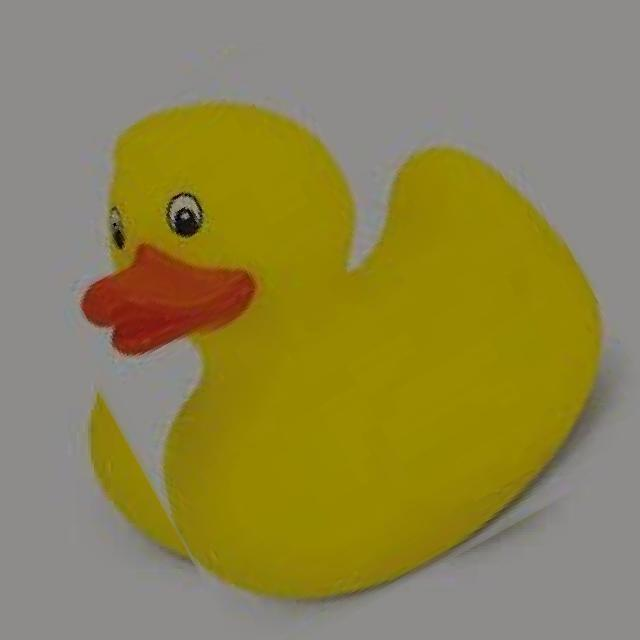rubber-duck: (15, 0, 638, 638), (64, 97, 604, 599), (298, 16, 418, 94)
